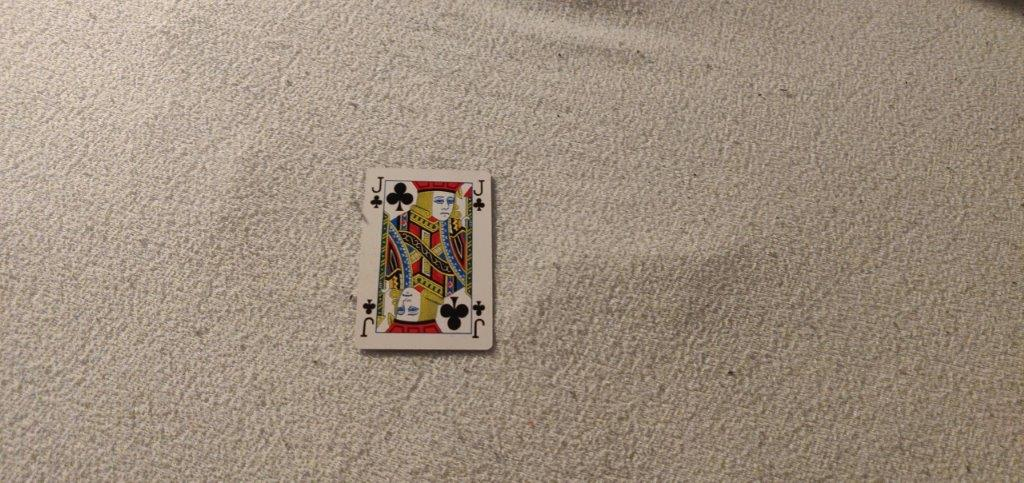JC: (367, 171, 386, 216), (471, 176, 488, 217)
